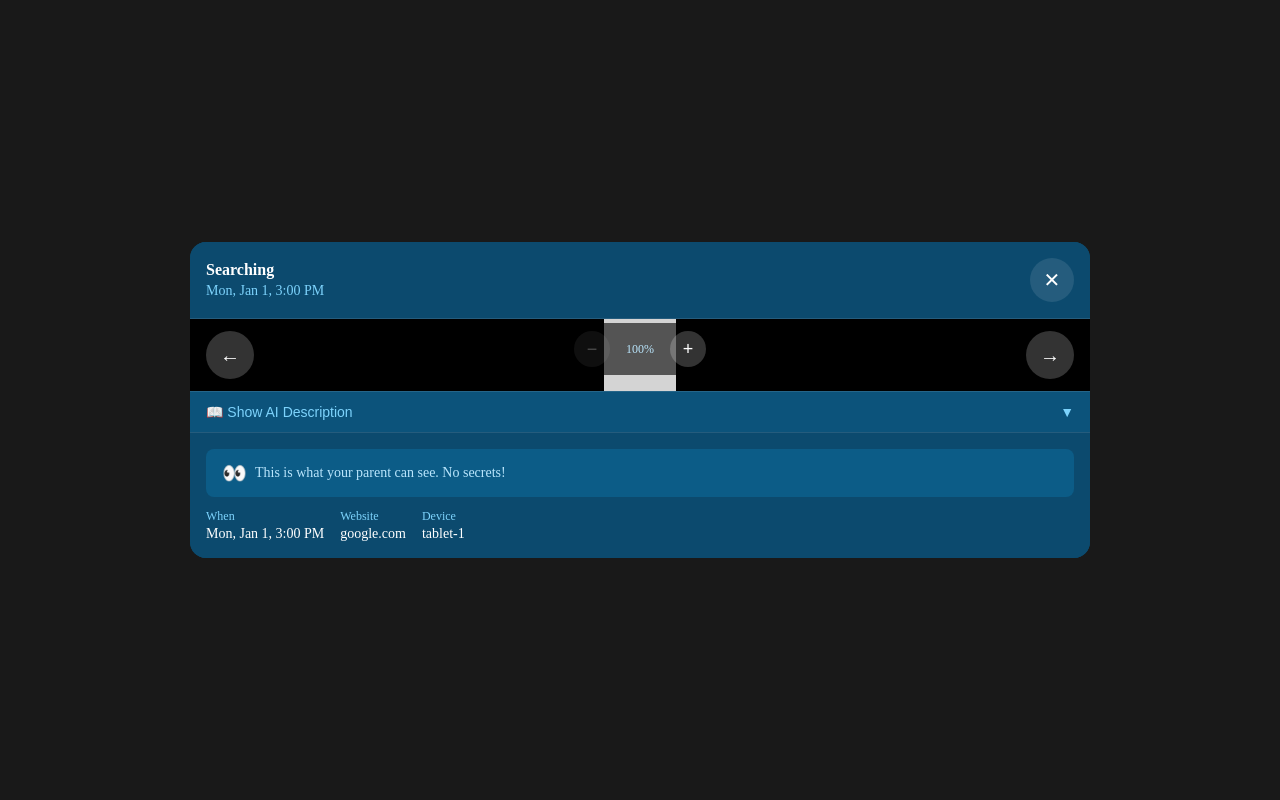
Test case: ChildScreenshotDetail › Accessibility Description (Story 28.3) › should collapse description section when toggle is clicked again
Click the button with test id "description-toggle": x=245, y=412 top-left (190, 391), bottom-right (1090, 432)
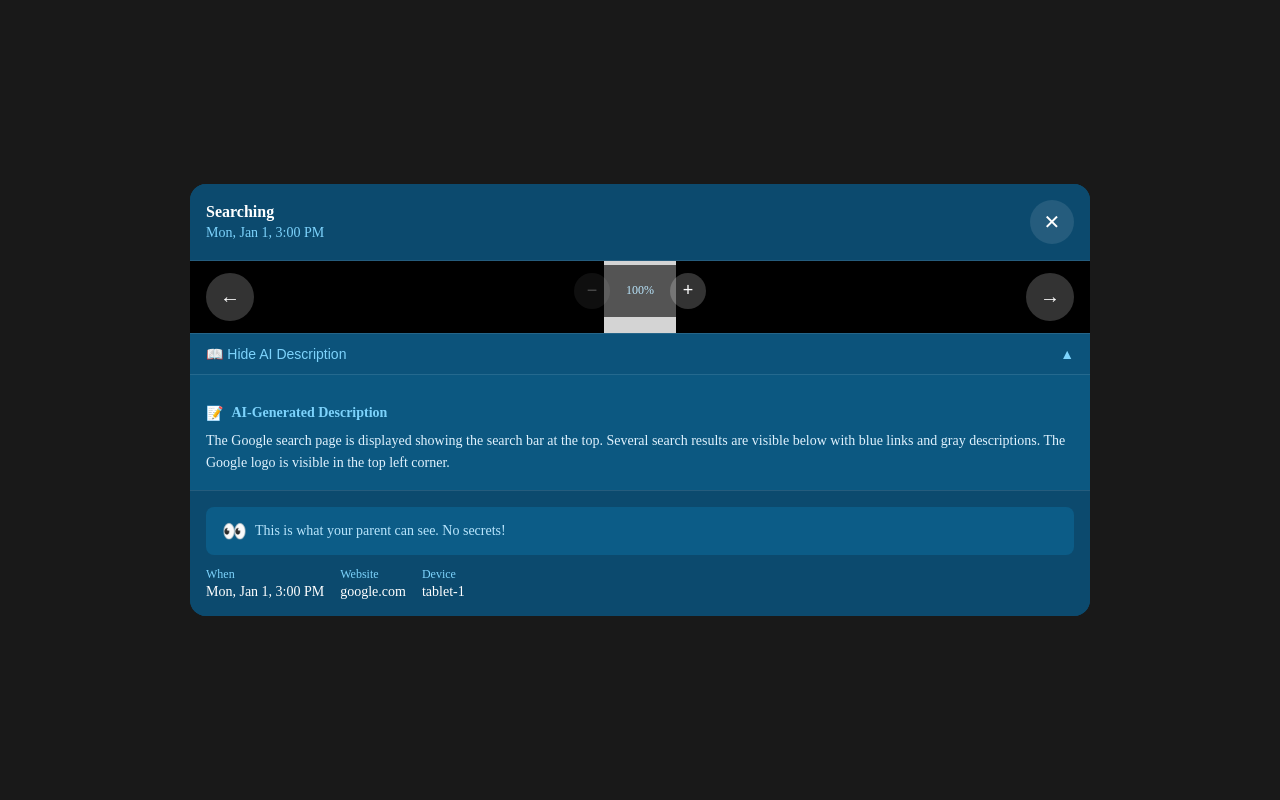
Now the element with test id "description-section" is shown, box top-left (190, 374), bottom-right (1090, 490)
Click the button with test id "description-toggle": x=301, y=354 top-left (190, 333), bottom-right (1090, 374)
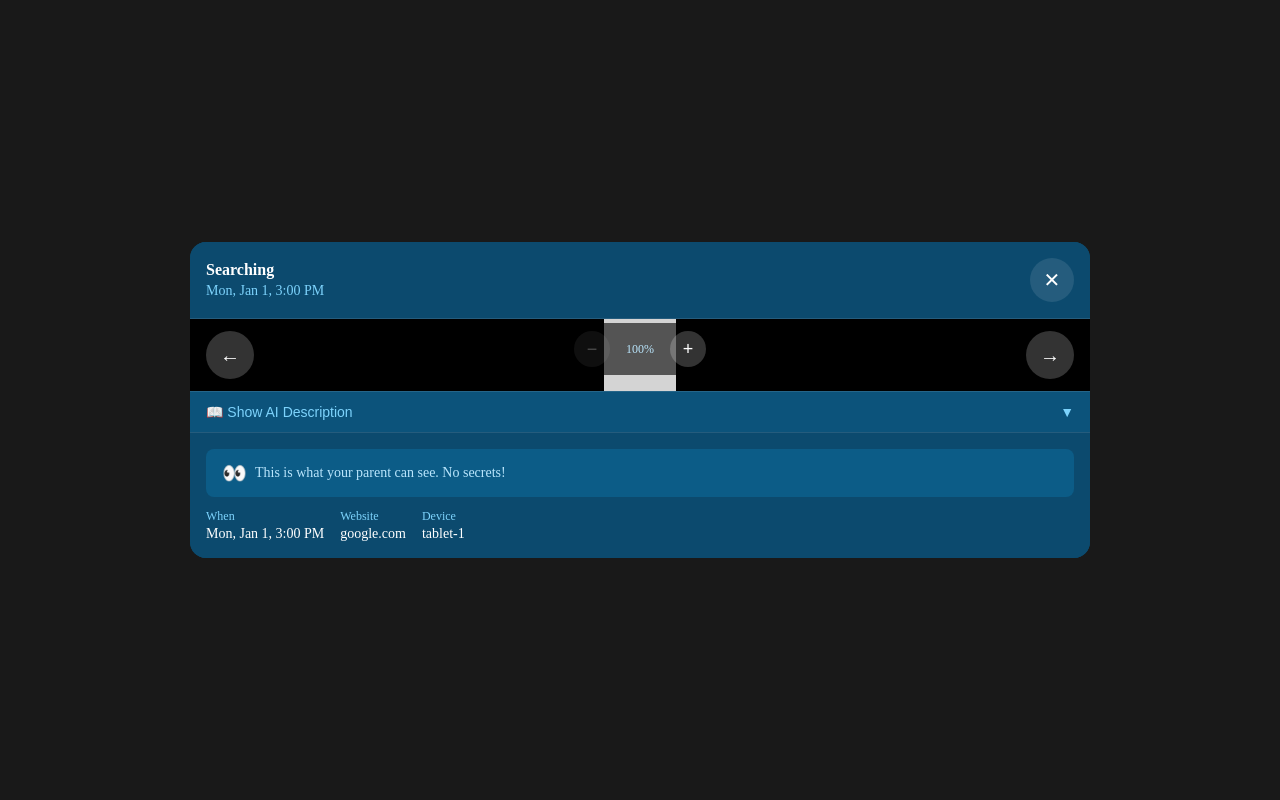
Now the element with test id "description-section" is gone
